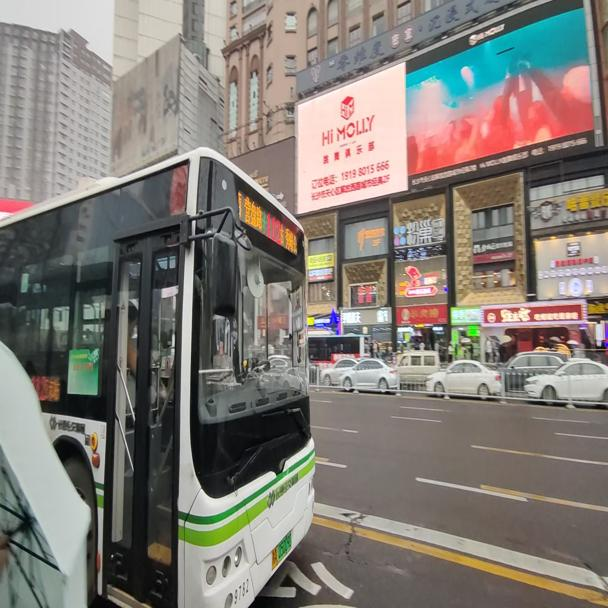bus: (1, 144, 316, 604)
screen: (266, 209, 280, 243)
